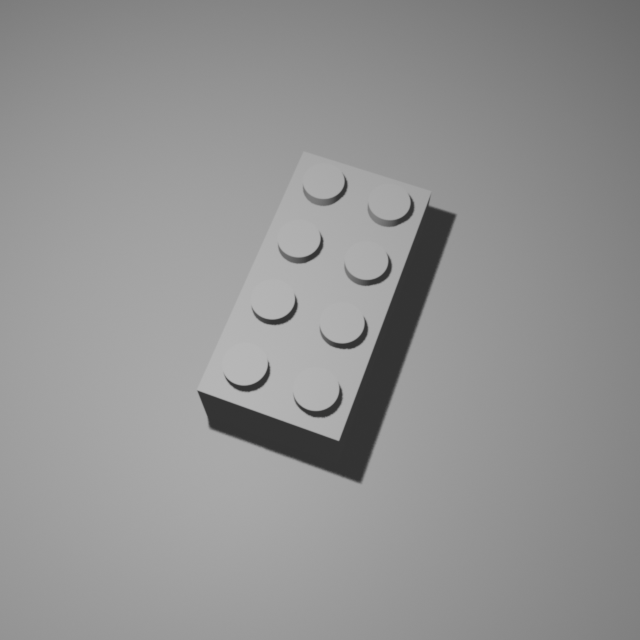lego_2x4: (195, 144, 433, 464)
